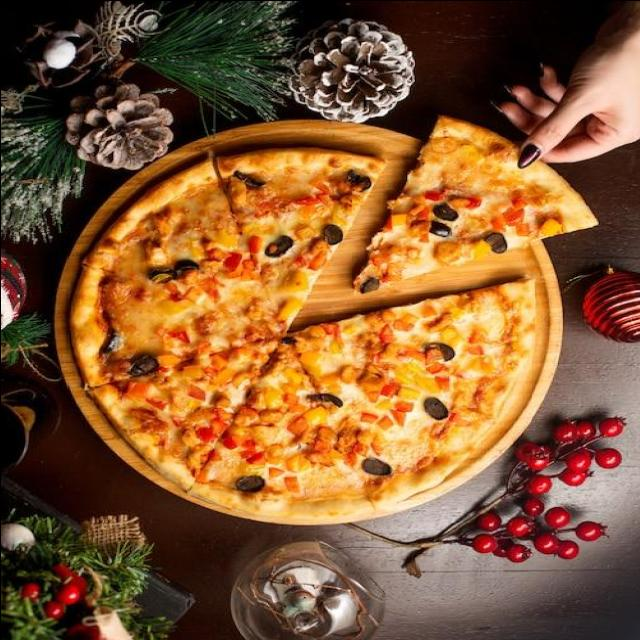pizza: (67, 146, 530, 522), (351, 113, 598, 295)
